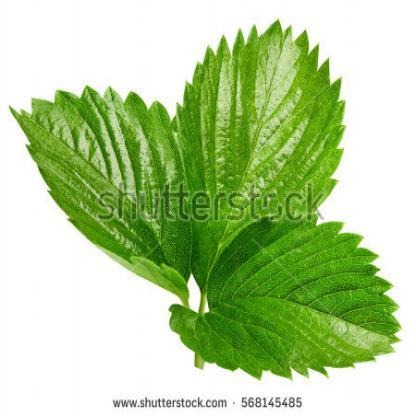Strawberry leaf: (0, 84, 202, 310), (183, 20, 348, 284), (158, 221, 413, 383)
